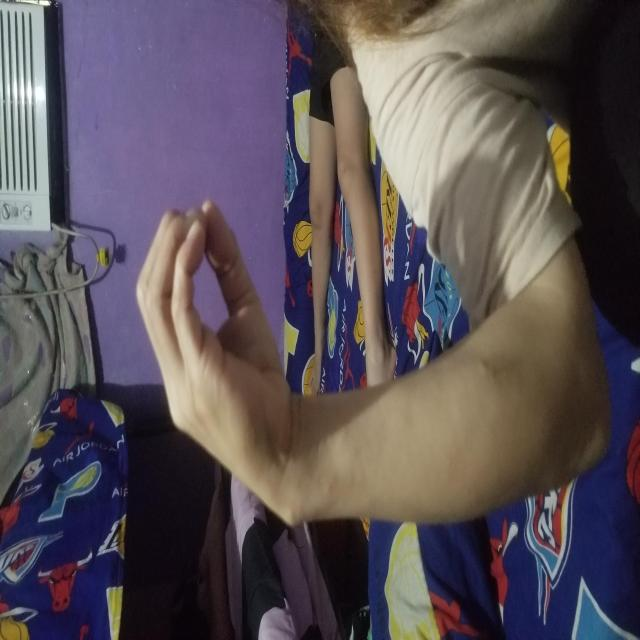O: (162, 134, 441, 286)
